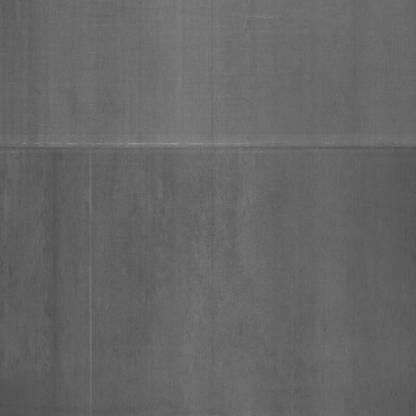welding_line: (4, 129, 416, 164)
